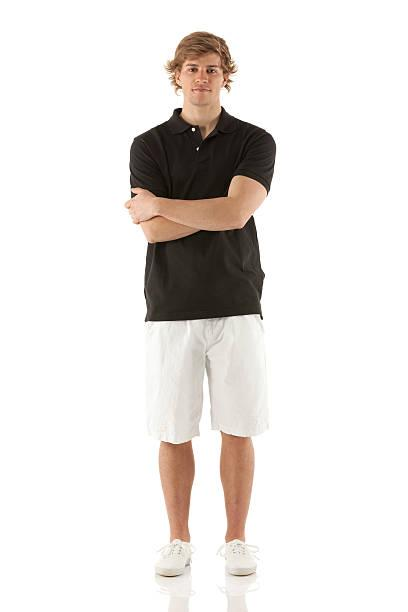Shorts: (142, 313, 273, 444)
short sleeve shirt: (126, 105, 277, 324)
